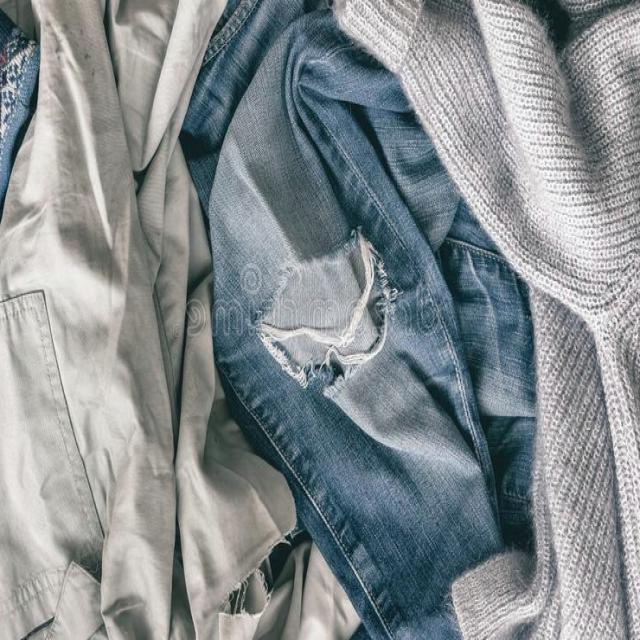clothes: (32, 115, 576, 539)
